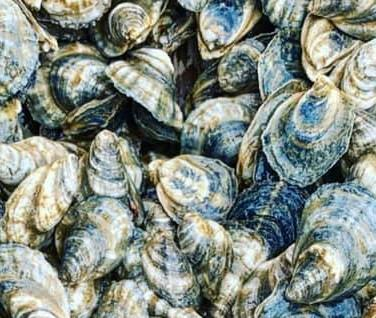3: (254, 275, 363, 318), (117, 133, 147, 197)
Oyster-Closed: (260, 73, 355, 185), (236, 80, 303, 182), (59, 196, 134, 282), (105, 52, 182, 134), (88, 0, 170, 57), (198, 0, 263, 60), (64, 92, 125, 139), (193, 60, 239, 108), (132, 100, 180, 143)
Oyster-Open: (209, 178, 313, 317), (286, 182, 376, 304), (113, 227, 204, 318), (24, 41, 117, 128), (157, 154, 239, 226), (0, 243, 71, 317), (180, 97, 252, 168), (179, 214, 234, 301), (232, 243, 294, 318), (301, 12, 365, 83), (257, 27, 314, 105), (142, 231, 202, 305), (1, 166, 55, 245), (0, 0, 40, 104), (46, 256, 101, 318), (0, 136, 69, 185), (34, 157, 78, 232), (88, 128, 129, 198), (309, 0, 376, 40), (217, 39, 265, 93), (342, 40, 376, 112), (34, 0, 114, 28), (93, 280, 150, 318), (144, 204, 182, 249), (261, 0, 311, 28)
